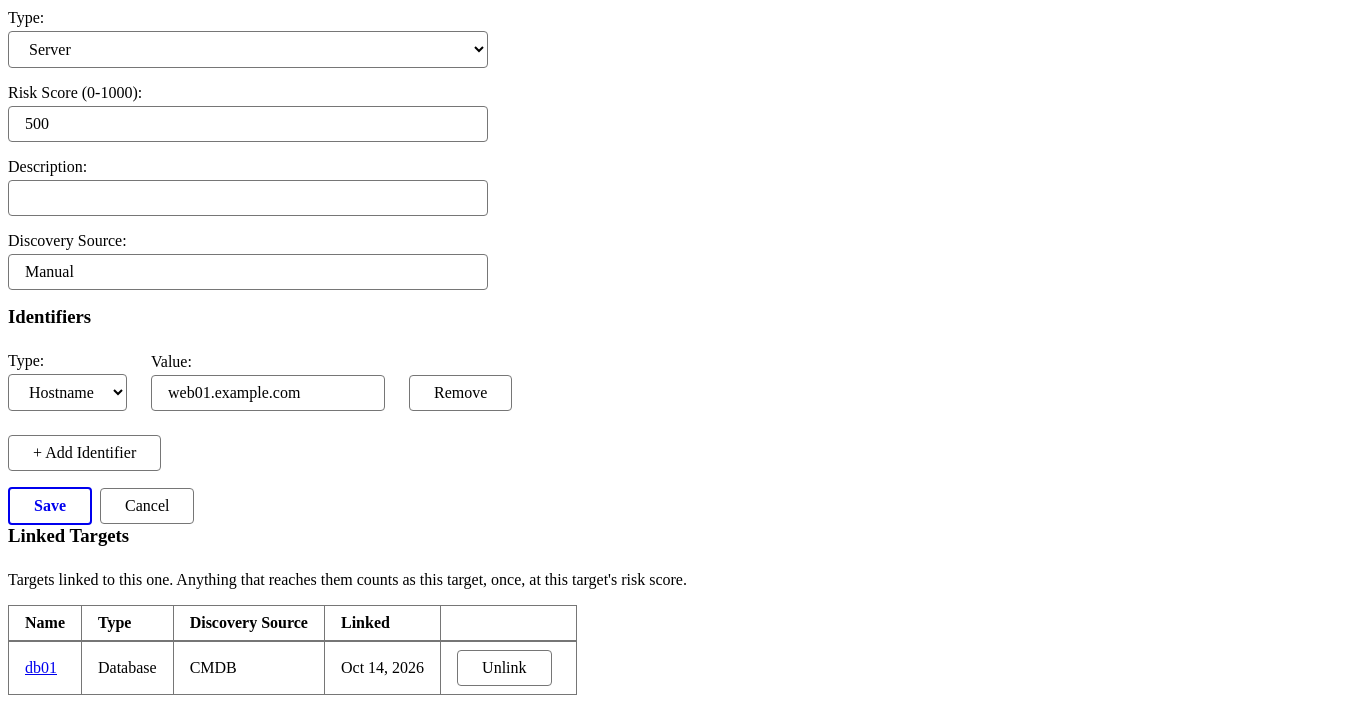
Scenario: TargetEdit.vue › lists the targets linked to this one and unlinks one after asking
This screenshot has width=1366, height=719.
(page scrolled)
Expected: the link to "/targets/8" reads "db01", [25, 659, 57, 676]
Click the button with aria-label "Unlink db01". click: (504, 668)
box: [457, 650, 552, 686]
(page scrolled)
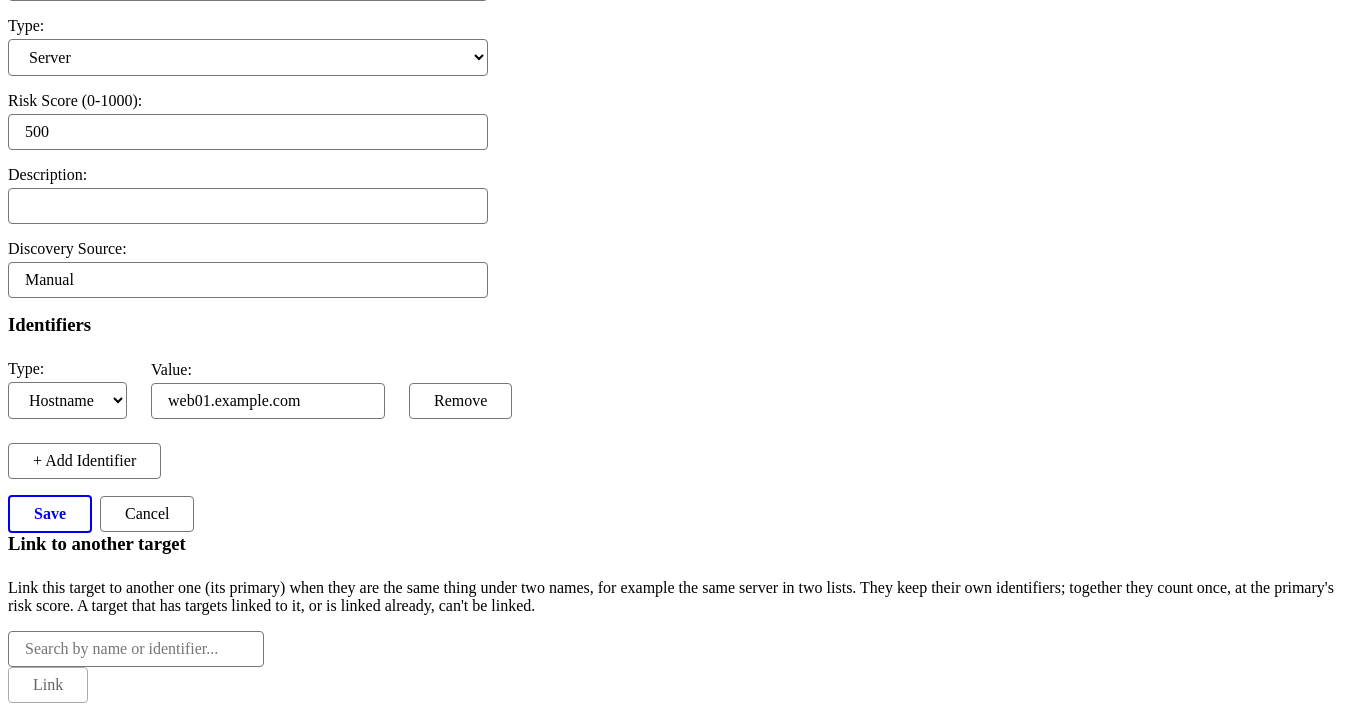
Expected: the text "Linked Targets" is gone
